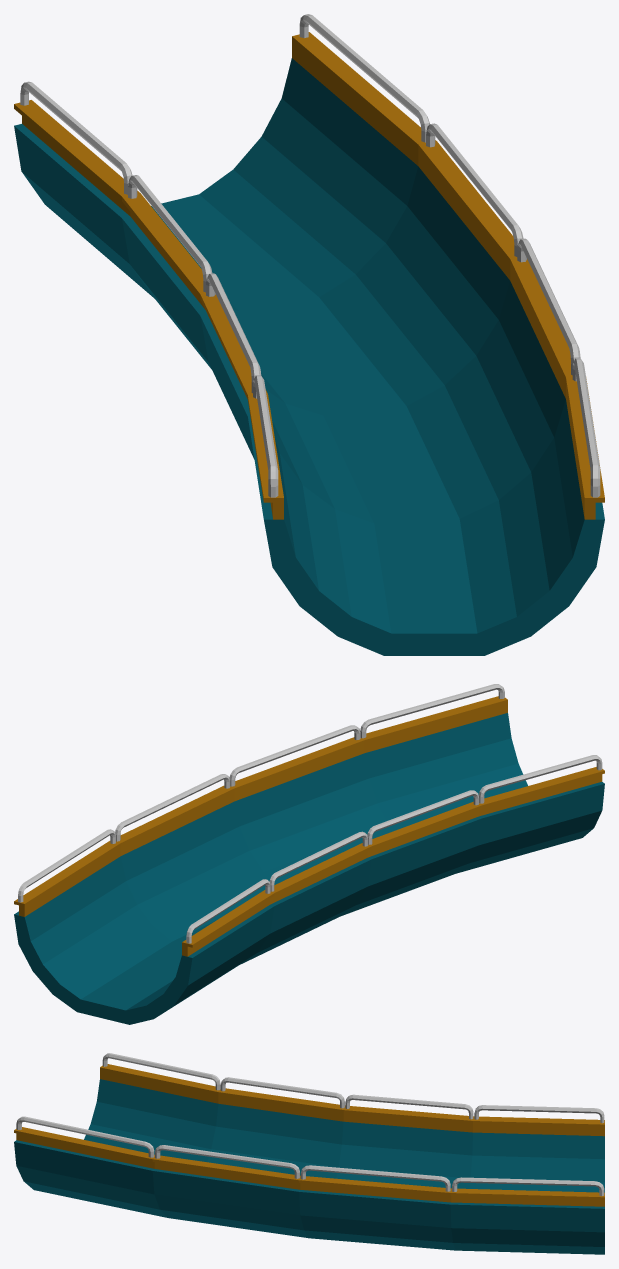
The model's file is halfpipe-curveRight-30_m.FBX.
3 views of the same model, one above another, from view 1: azimuth 30°, elevation 25°; view 2: azimuth 150°, elevation 25°; view 3: azimuth 270°, elevation 25° (orthographic). The views are drawn at different scales.
Parts seen in each view (by area): view 1: halfpipe-curveRight-30_m, wall_l, wall_r; view 2: halfpipe-curveRight-30_m, wall_l, wall_r; view 3: halfpipe-curveRight-30_m, wall_l, wall_r.
Boxes of the visible parts, x1,y1,x2,y2 form: halfpipe-curveRight-30_m: (14, 58, 604, 655); wall_l: (292, 14, 604, 519); wall_r: (14, 81, 283, 519); halfpipe-curveRight-30_m: (14, 713, 604, 1024); wall_l: (14, 684, 507, 916); wall_r: (182, 755, 604, 956); halfpipe-curveRight-30_m: (14, 1079, 604, 1254); wall_l: (14, 1116, 604, 1206); wall_r: (100, 1053, 604, 1136).
Size of what is drawn, in the model's own units: 222 by 414 by 75.73.
